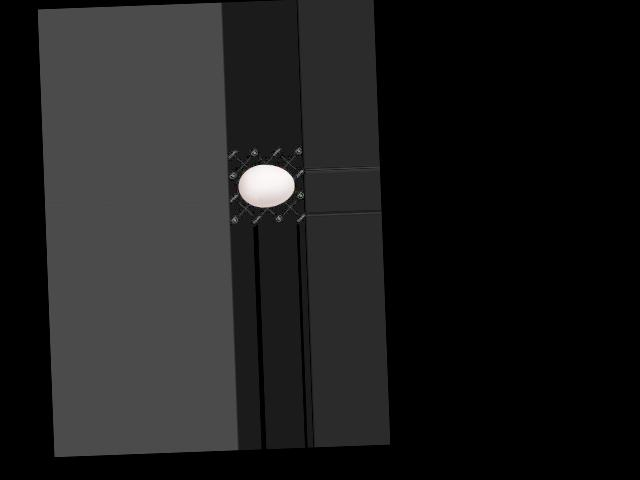egg: (237, 163, 294, 207)
